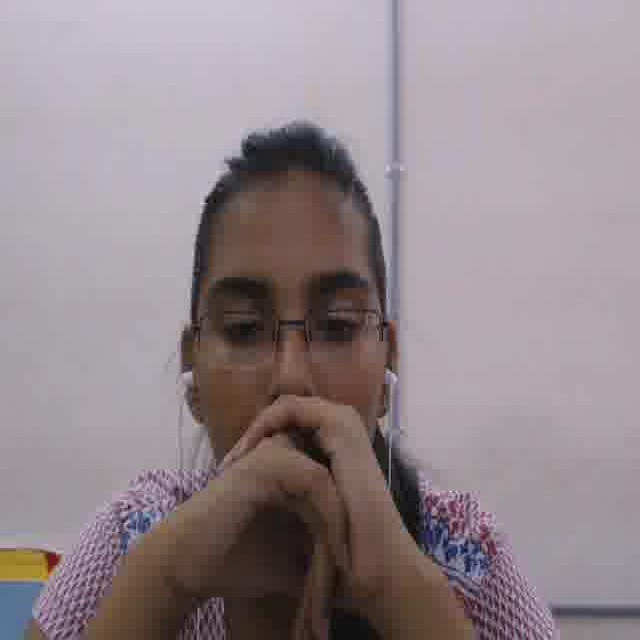Boredom: (188, 205, 386, 539)
